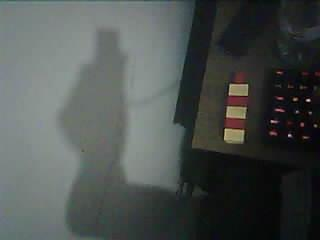lego: (223, 69, 250, 144)
